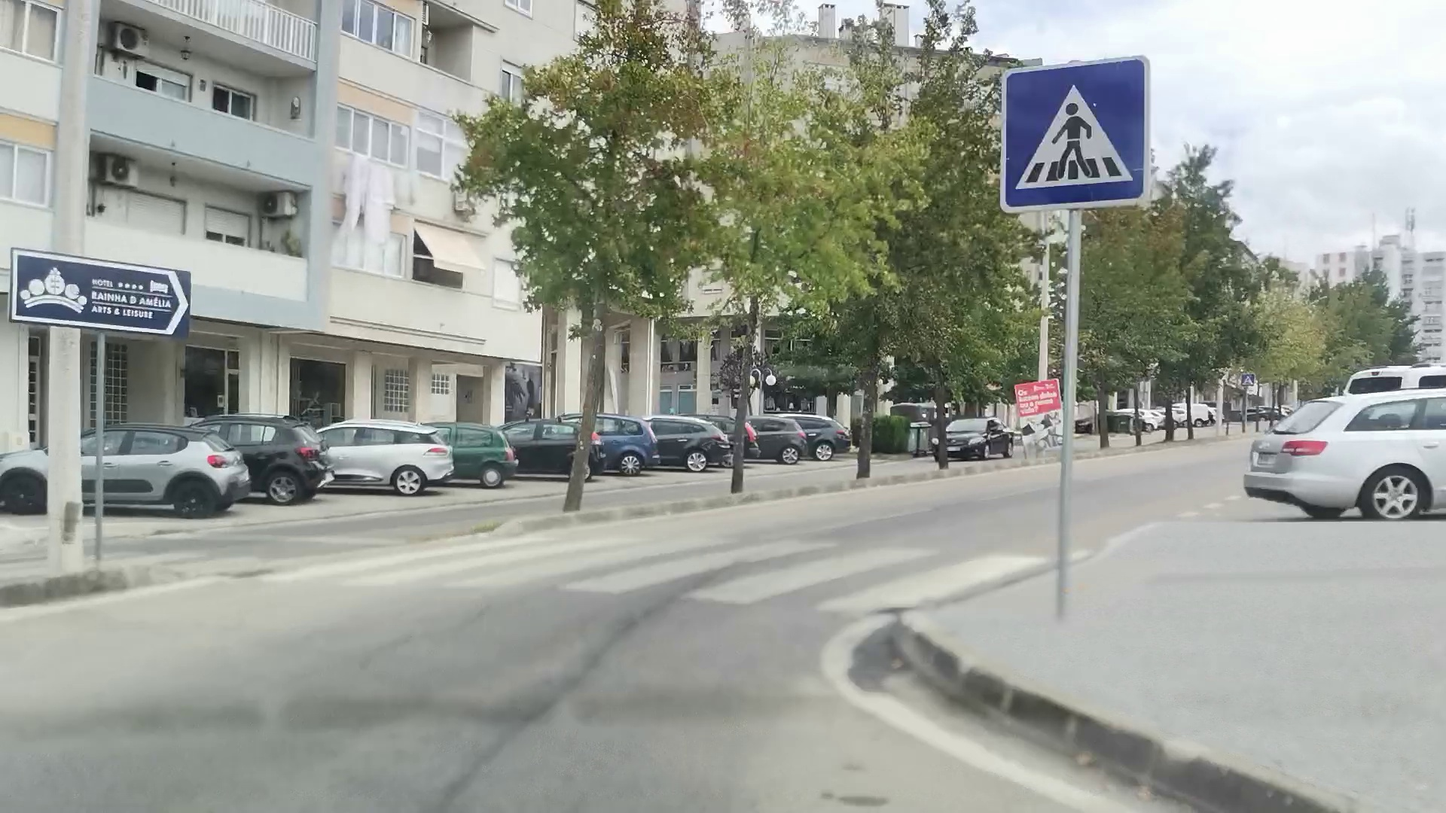Stairs: (270, 534, 1053, 610)
